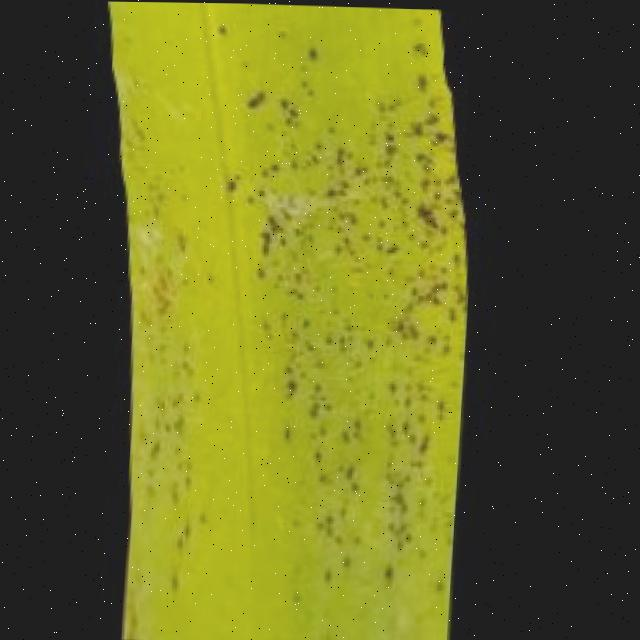mite: (379, 560, 401, 586), (241, 91, 266, 112), (407, 38, 429, 59), (410, 72, 430, 93), (302, 45, 318, 61), (385, 565, 399, 581)
